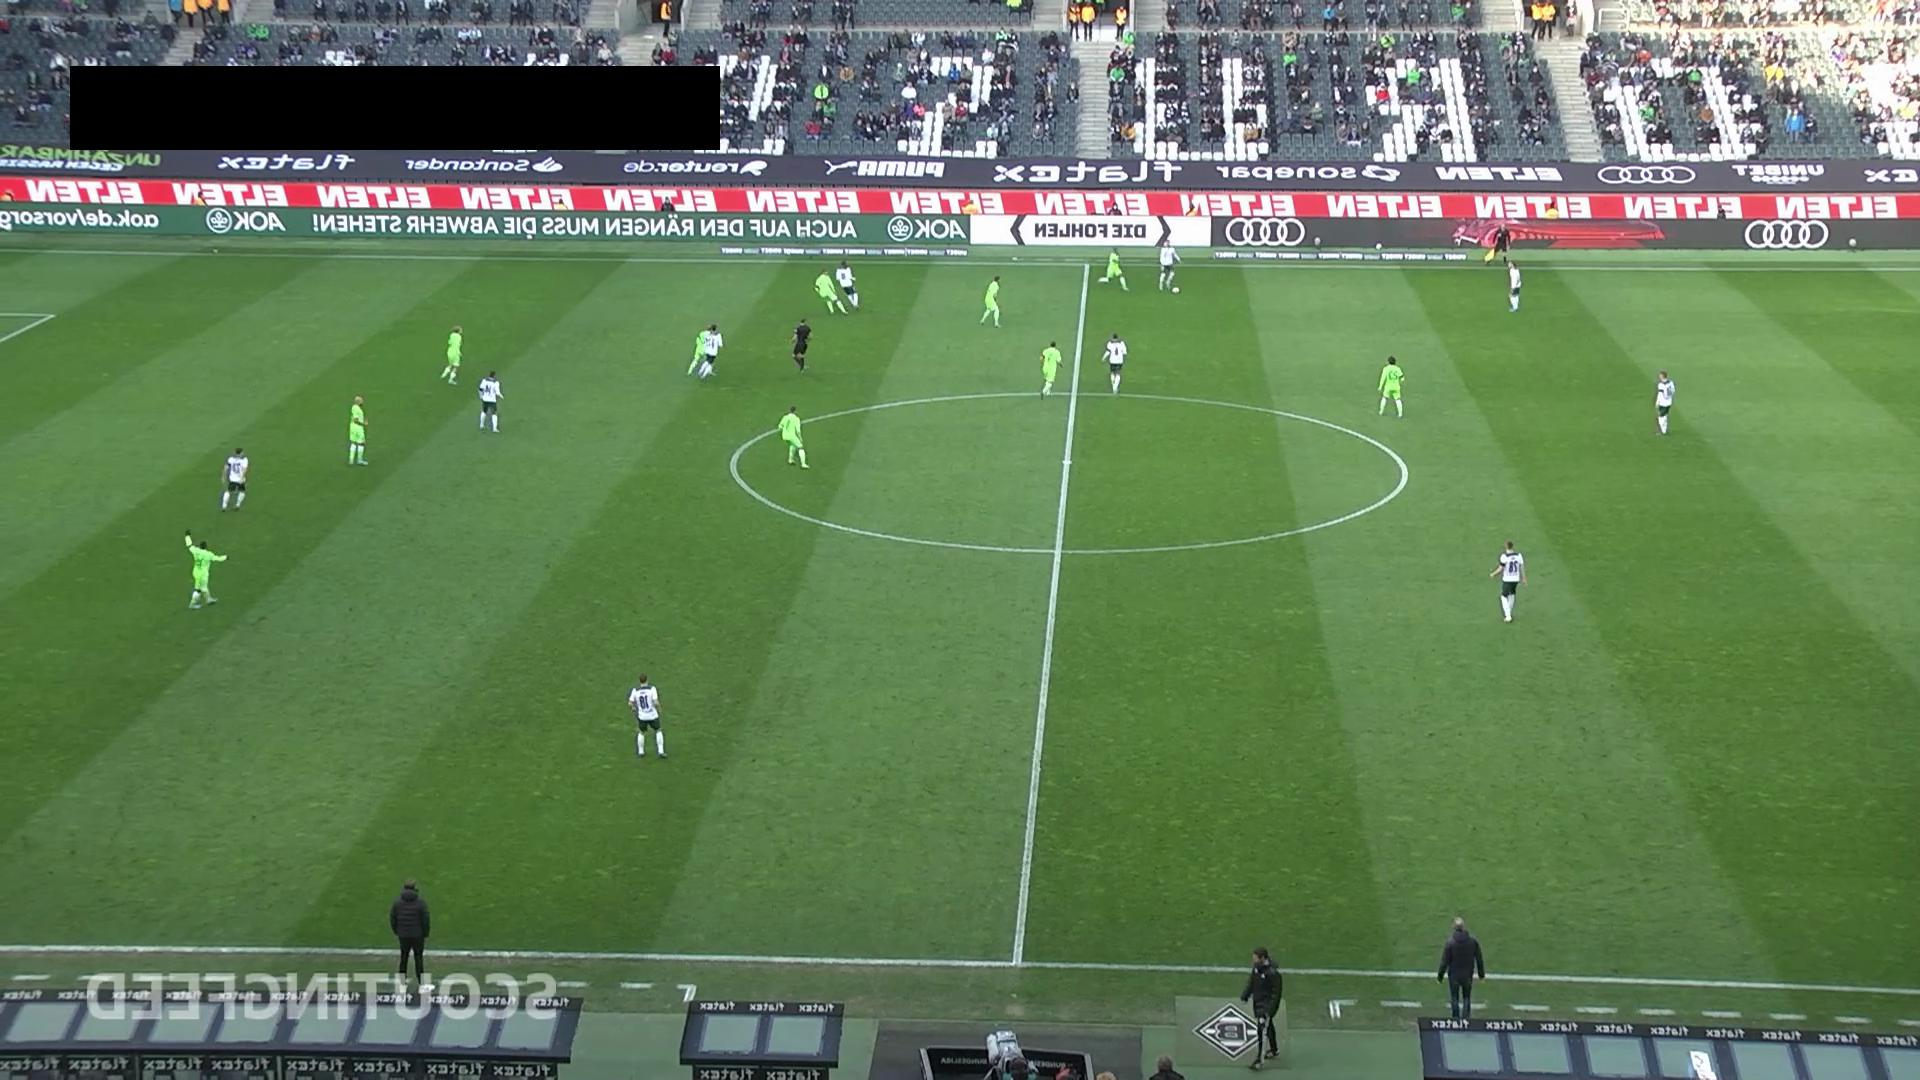ball: (1171, 286, 1180, 295)
player: (627, 672, 668, 758), (184, 531, 229, 609), (1488, 539, 1527, 623), (778, 404, 810, 468), (220, 446, 249, 511), (1100, 332, 1129, 395), (1376, 355, 1405, 418), (478, 369, 505, 433), (696, 322, 724, 381), (814, 268, 849, 315), (348, 394, 369, 466), (1039, 340, 1064, 400), (685, 325, 714, 375), (1654, 370, 1676, 435), (1098, 247, 1130, 291), (440, 324, 463, 384), (1157, 239, 1182, 293), (835, 262, 860, 310), (979, 275, 1002, 327), (1506, 258, 1522, 312)
referee: (789, 317, 812, 373), (1483, 224, 1512, 266)
